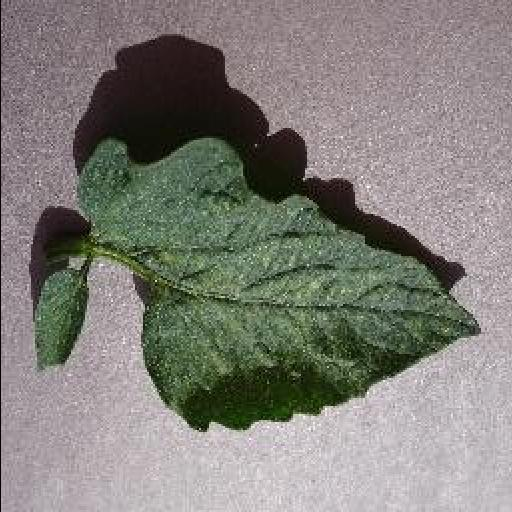disease_tomato: (76, 136, 482, 432)
